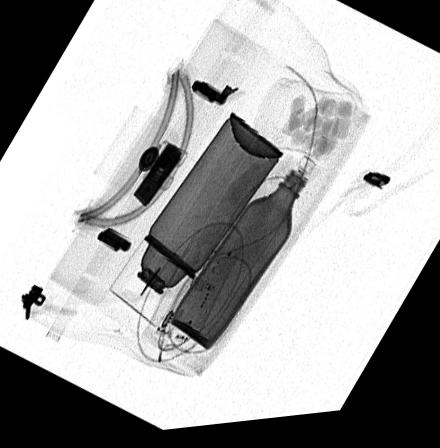Sprayer: (108, 117, 283, 331)
